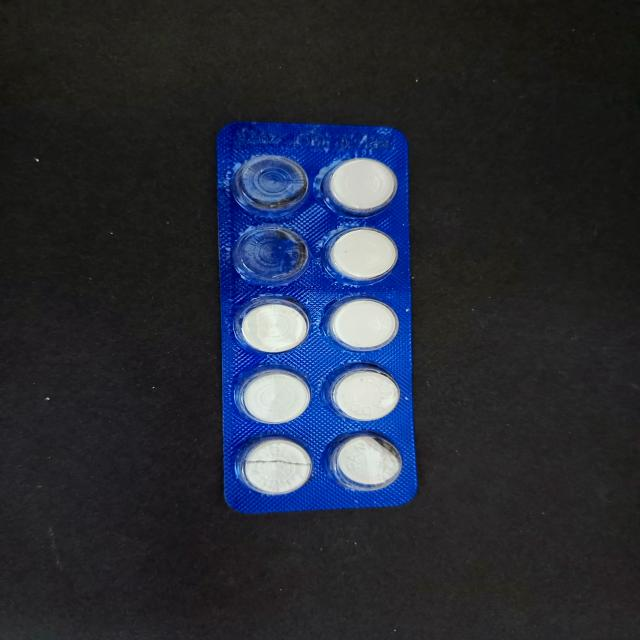defect: (235, 432, 315, 499), (232, 152, 312, 218), (229, 223, 310, 288), (327, 429, 405, 495)
